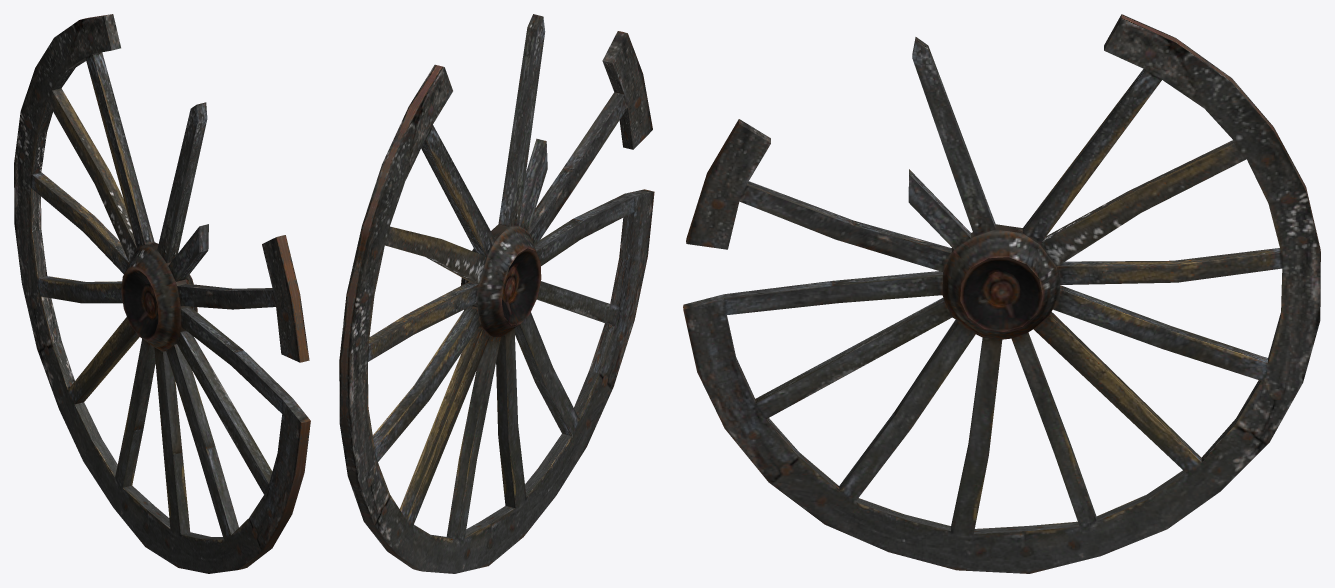
The model's file is Wheeldamaged_LOD01.fbx.
3 views of the same model, side by side, from view 1: azimuth 30°, elevation 25°; view 2: azimuth 150°, elevation 25°; view 3: azimuth 270°, elevation 25° (orthographic). The views are drawn at different scales.
Parts seen in each view (by area): view 1: Mesh Object; view 2: Mesh Object; view 3: Mesh Object.
Boxes of the visible parts, box(x1,y1,x2,y2) form: Mesh Object: box(14, 14, 310, 573); Mesh Object: box(339, 14, 654, 573); Mesh Object: box(683, 14, 1320, 573).
Bounding box in the file's own units: 0.0781 × 0.953 × 0.9921.
